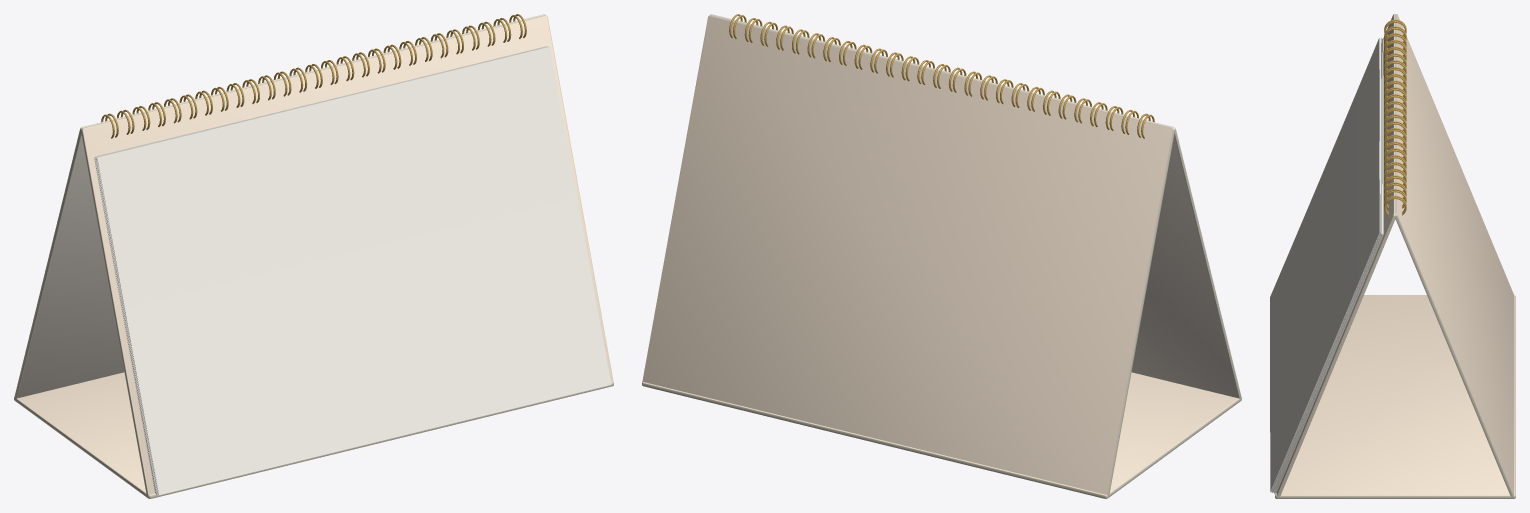
Rendered from calendar.glb.
3 views of the same model, side by side, from view 1: azimuth 30°, elevation 25°; view 2: azimuth 150°, elevation 25°; view 3: azimuth 270°, elevation 25° (orthographic). The views are drawn at different scales.
Parts seen in each view (by area): view 1: cal_page_12, cal_front, cal_back, cal_base, cal_wire, cal_page_10; view 2: cal_back, cal_front, cal_base, cal_wire; view 3: cal_base, cal_back, cal_page_12, cal_wire, cal_front, cal_page_07, cal_page_09, cal_page_02, cal_page_10, cal_page_01, cal_page_04, cal_page_06 (+5 smaller).
Boxes of the visible parts, bbox=[...] form: cal_page_12: bbox=[97, 47, 611, 495]; cal_front: bbox=[81, 15, 613, 495]; cal_back: bbox=[14, 14, 545, 399]; cal_base: bbox=[14, 372, 613, 498]; cal_wire: bbox=[101, 14, 526, 138]; cal_page_10: bbox=[96, 47, 547, 495]; cal_back: bbox=[642, 15, 1174, 496]; cal_front: bbox=[710, 14, 1241, 399]; cal_base: bbox=[642, 372, 1241, 498]; cal_wire: bbox=[729, 14, 1154, 138]; cal_base: bbox=[1275, 295, 1515, 498]; cal_back: bbox=[1395, 14, 1514, 497]; cal_page_12: bbox=[1270, 38, 1379, 491]; cal_wire: bbox=[1384, 19, 1406, 215]; cal_front: bbox=[1276, 14, 1395, 497]; cal_page_07: bbox=[1272, 38, 1381, 492]; cal_page_09: bbox=[1271, 38, 1380, 491]; cal_page_02: bbox=[1274, 39, 1382, 493]; cal_page_10: bbox=[1271, 38, 1380, 491]; cal_page_01: bbox=[1275, 39, 1383, 492]; cal_page_04: bbox=[1274, 38, 1382, 492]; cal_page_06: bbox=[1273, 38, 1381, 492].
Bounding box in the file's own units: 0.21 × 0.1415 × 0.1085.
